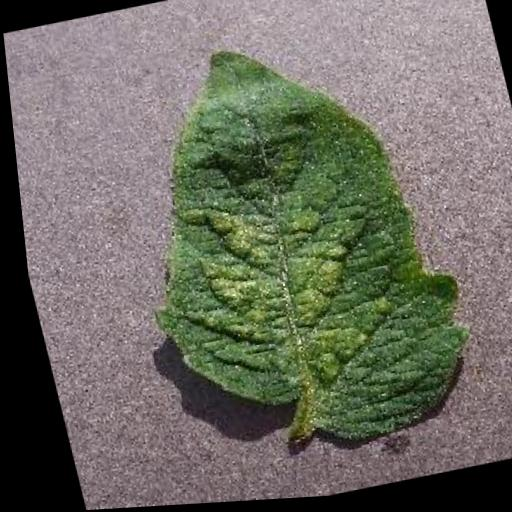Spider Mites: (89, 17, 484, 475)
